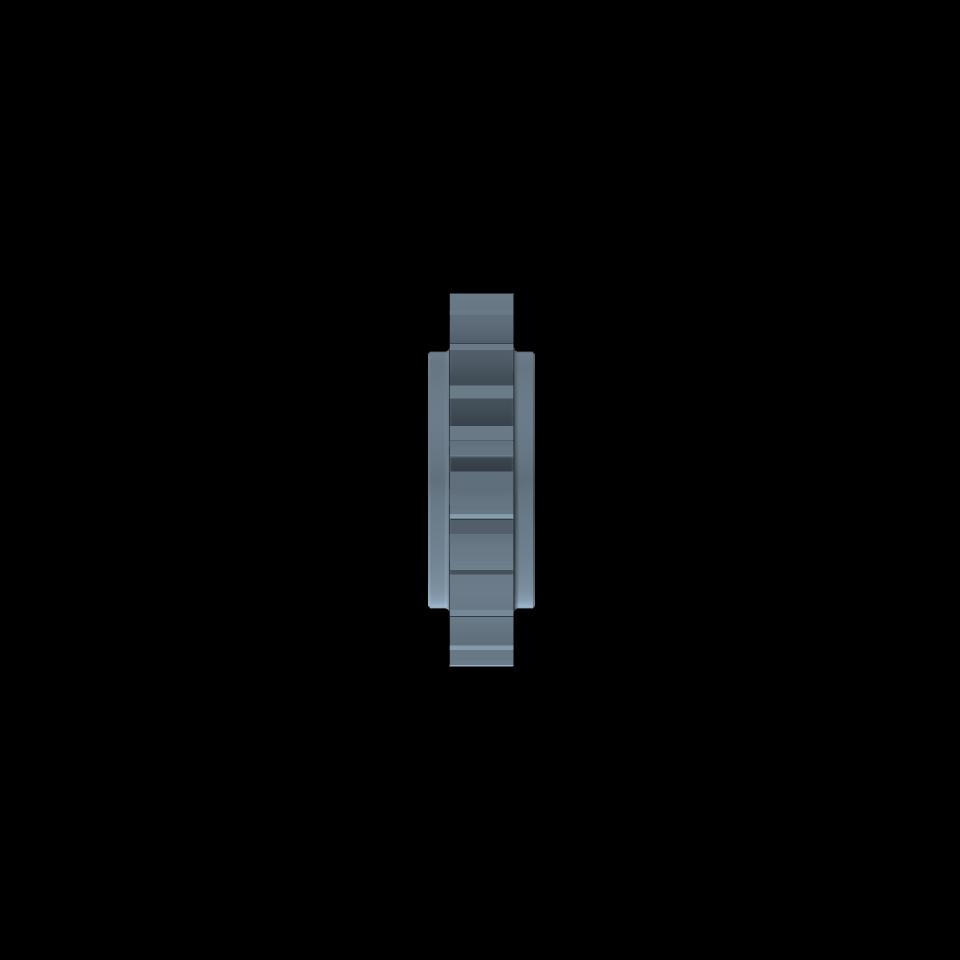Straight: (449, 293, 511, 666)
